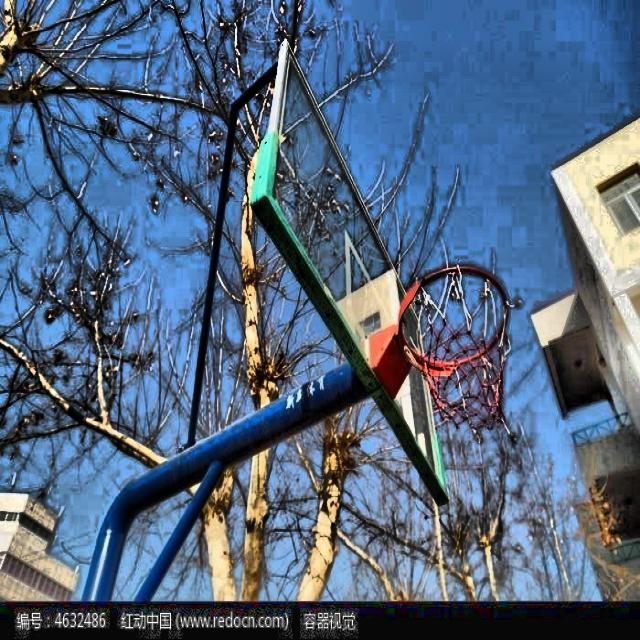rim: (395, 265, 512, 429)
